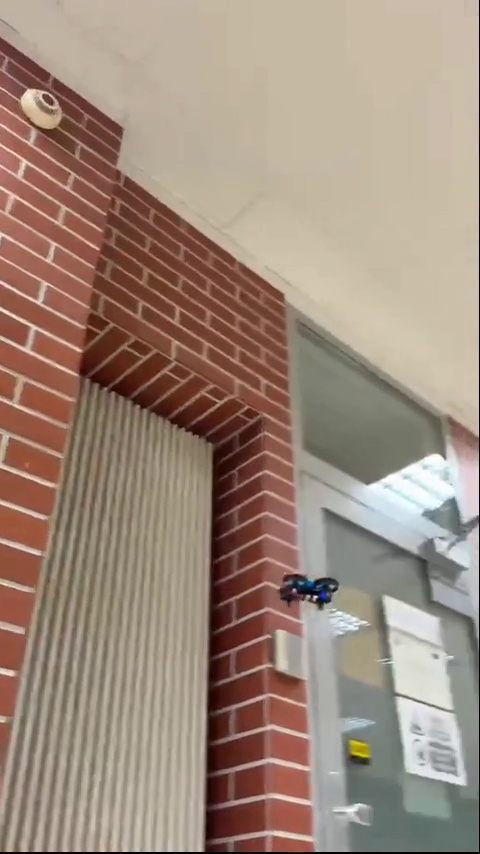drone: (279, 573, 340, 612)
